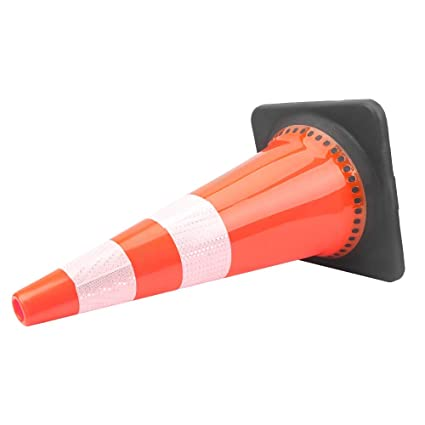cones: (7, 98, 417, 328)
